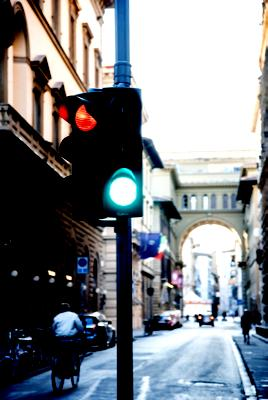International Road Signal Light: (56, 87, 143, 221)
